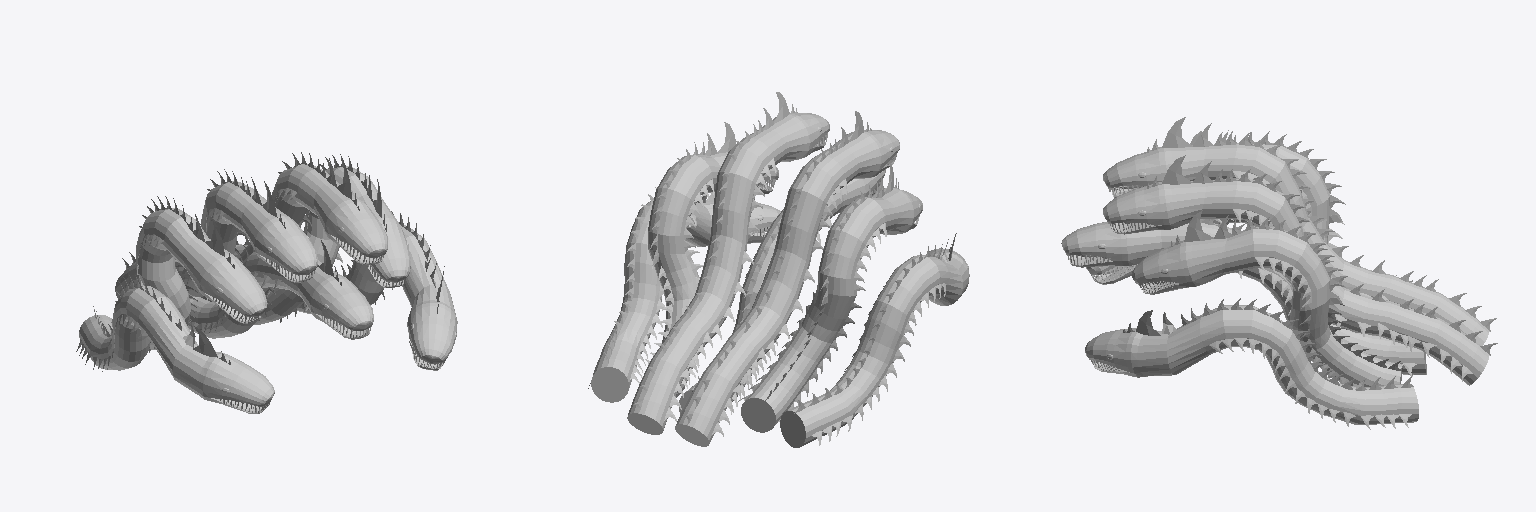
The model's file is DS_Hydra.obj.
3 views of the same model, side by side, from view 1: azimuth 30°, elevation 25°; view 2: azimuth 150°, elevation 25°; view 3: azimuth 270°, elevation 25° (orthographic).
Parts seen in each view (by area): view 1: default; view 2: default; view 3: default.
Boxes of the visible parts, <box> form: default: <box>76,152,457,413</box>; default: <box>588,92,969,447</box>; default: <box>1061,117,1497,429</box>.
Bounding box in the file's own units: 18.09 × 14 × 23.03.